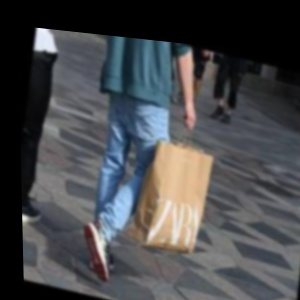zara: (146, 115, 267, 280)
